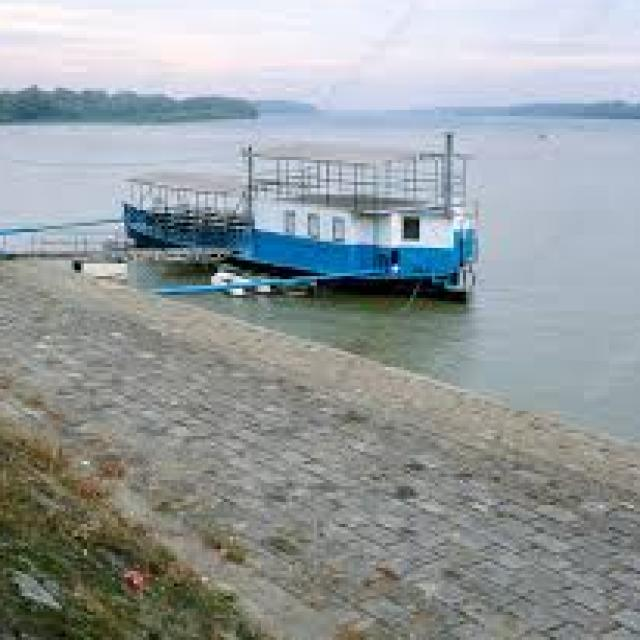fishing boat: (103, 130, 486, 293)
